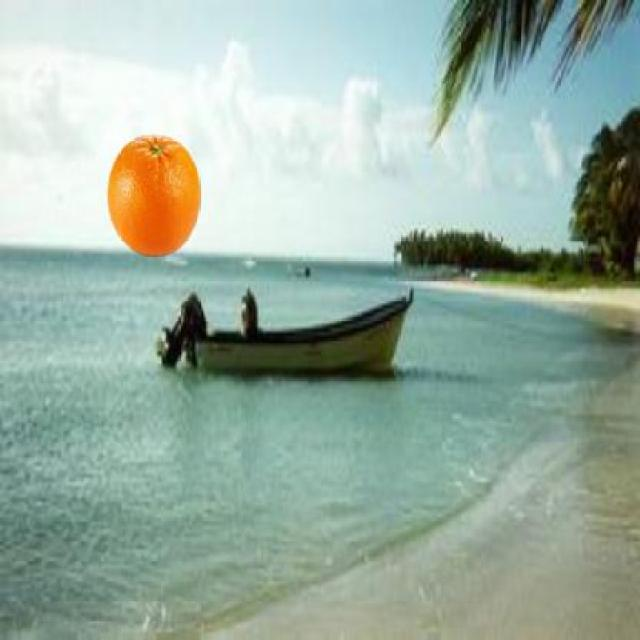Orange: (105, 131, 202, 257)
